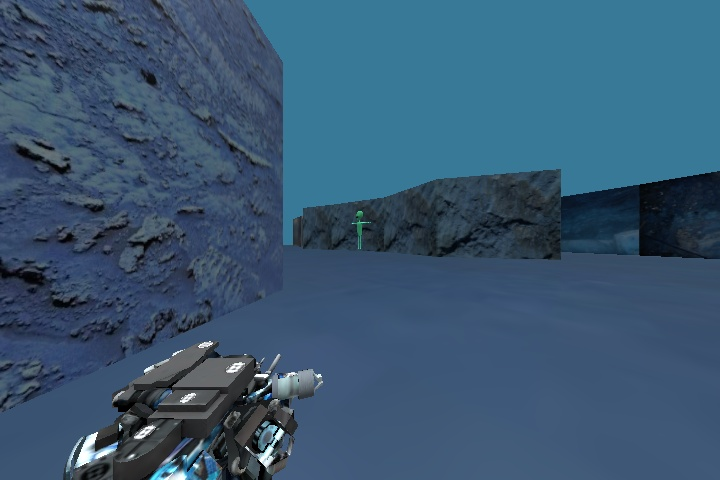green_alien: (342, 206, 372, 252)
